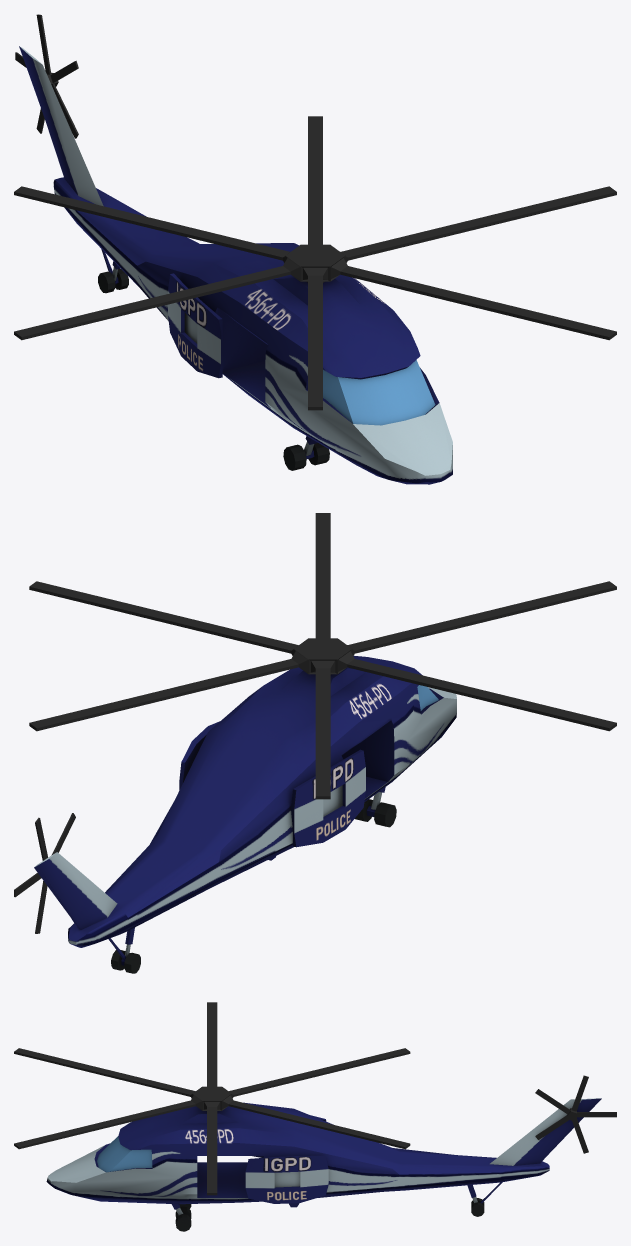
Rendered from helicopter_police.glb.
3 renders of one model, top to bottom at view 1: azimuth 30°, elevation 25°; view 2: azimuth 150°, elevation 25°; view 3: azimuth 270°, elevation 25°, orthographic. The views are drawn at different scales.
Parts seen in each view (by area): view 1: Cube, Cylinder, Cylinder.001; view 2: Cube, Cylinder, Cylinder.001; view 3: Cube, Cylinder, Cylinder.001.
Boxes of the visible parts, x1,y1,x2,y2 form: Cube: (19,46,452,484); Cylinder: (14,116,616,410); Cylinder.001: (15,14,78,138); Cube: (34,655,456,973); Cylinder: (29,513,616,799); Cylinder.001: (14,813,75,933); Cube: (46,1098,601,1231); Cylinder: (14,1002,410,1195); Cylinder.001: (535,1075,616,1153).
Size of the model in its own units: 5.72 by 2 by 7.63.
2 materials, 1 textured.
